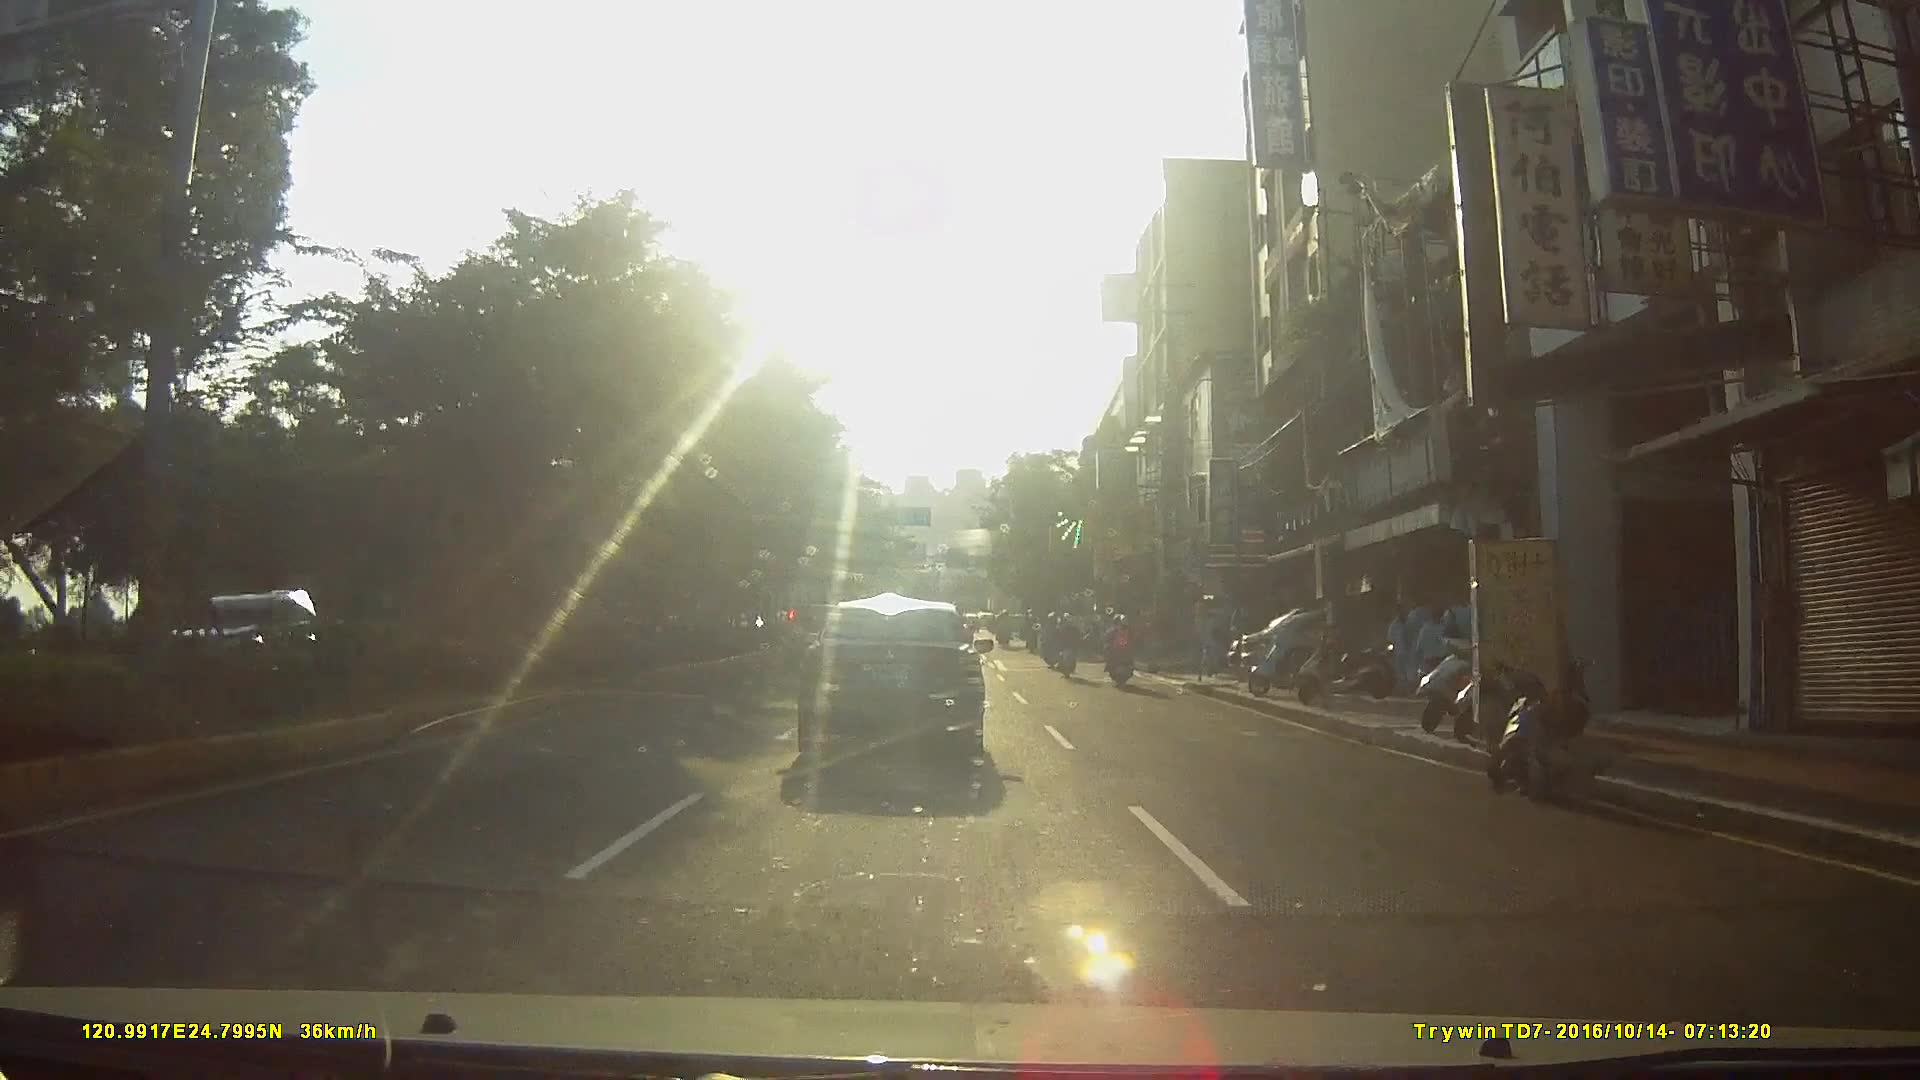pedestrian: (1446, 577, 1486, 707)
rider: (1105, 612, 1138, 690), (1055, 612, 1081, 680), (1042, 611, 1063, 670)
vehicle: (795, 598, 1010, 787), (157, 582, 343, 697)
